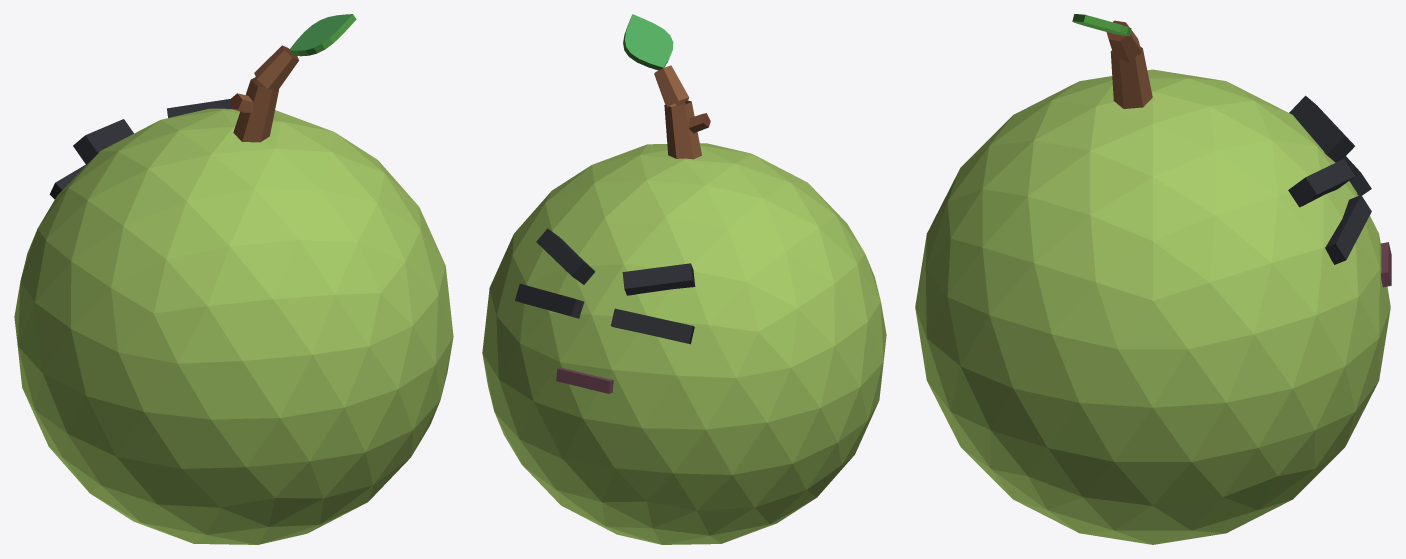
File: CH_Dalcik_T3_Blink.fbx
3 views of the same model, side by side, from view 1: azimuth 30°, elevation 25°; view 2: azimuth 150°, elevation 25°; view 3: azimuth 270°, elevation 25° (orthographic). The views are drawn at different scales.
Visible parts, largest first — view 1: CH_Dalcik_T3_Blink; view 2: CH_Dalcik_T3_Blink; view 3: CH_Dalcik_T3_Blink.
Part boxes in pixels (<box>): CH_Dalcik_T3_Blink: <box>14,14,453,544</box>; CH_Dalcik_T3_Blink: <box>482,14,886,544</box>; CH_Dalcik_T3_Blink: <box>915,14,1391,544</box>.
Size of the model in its own units: 1 by 1.29 by 1.
